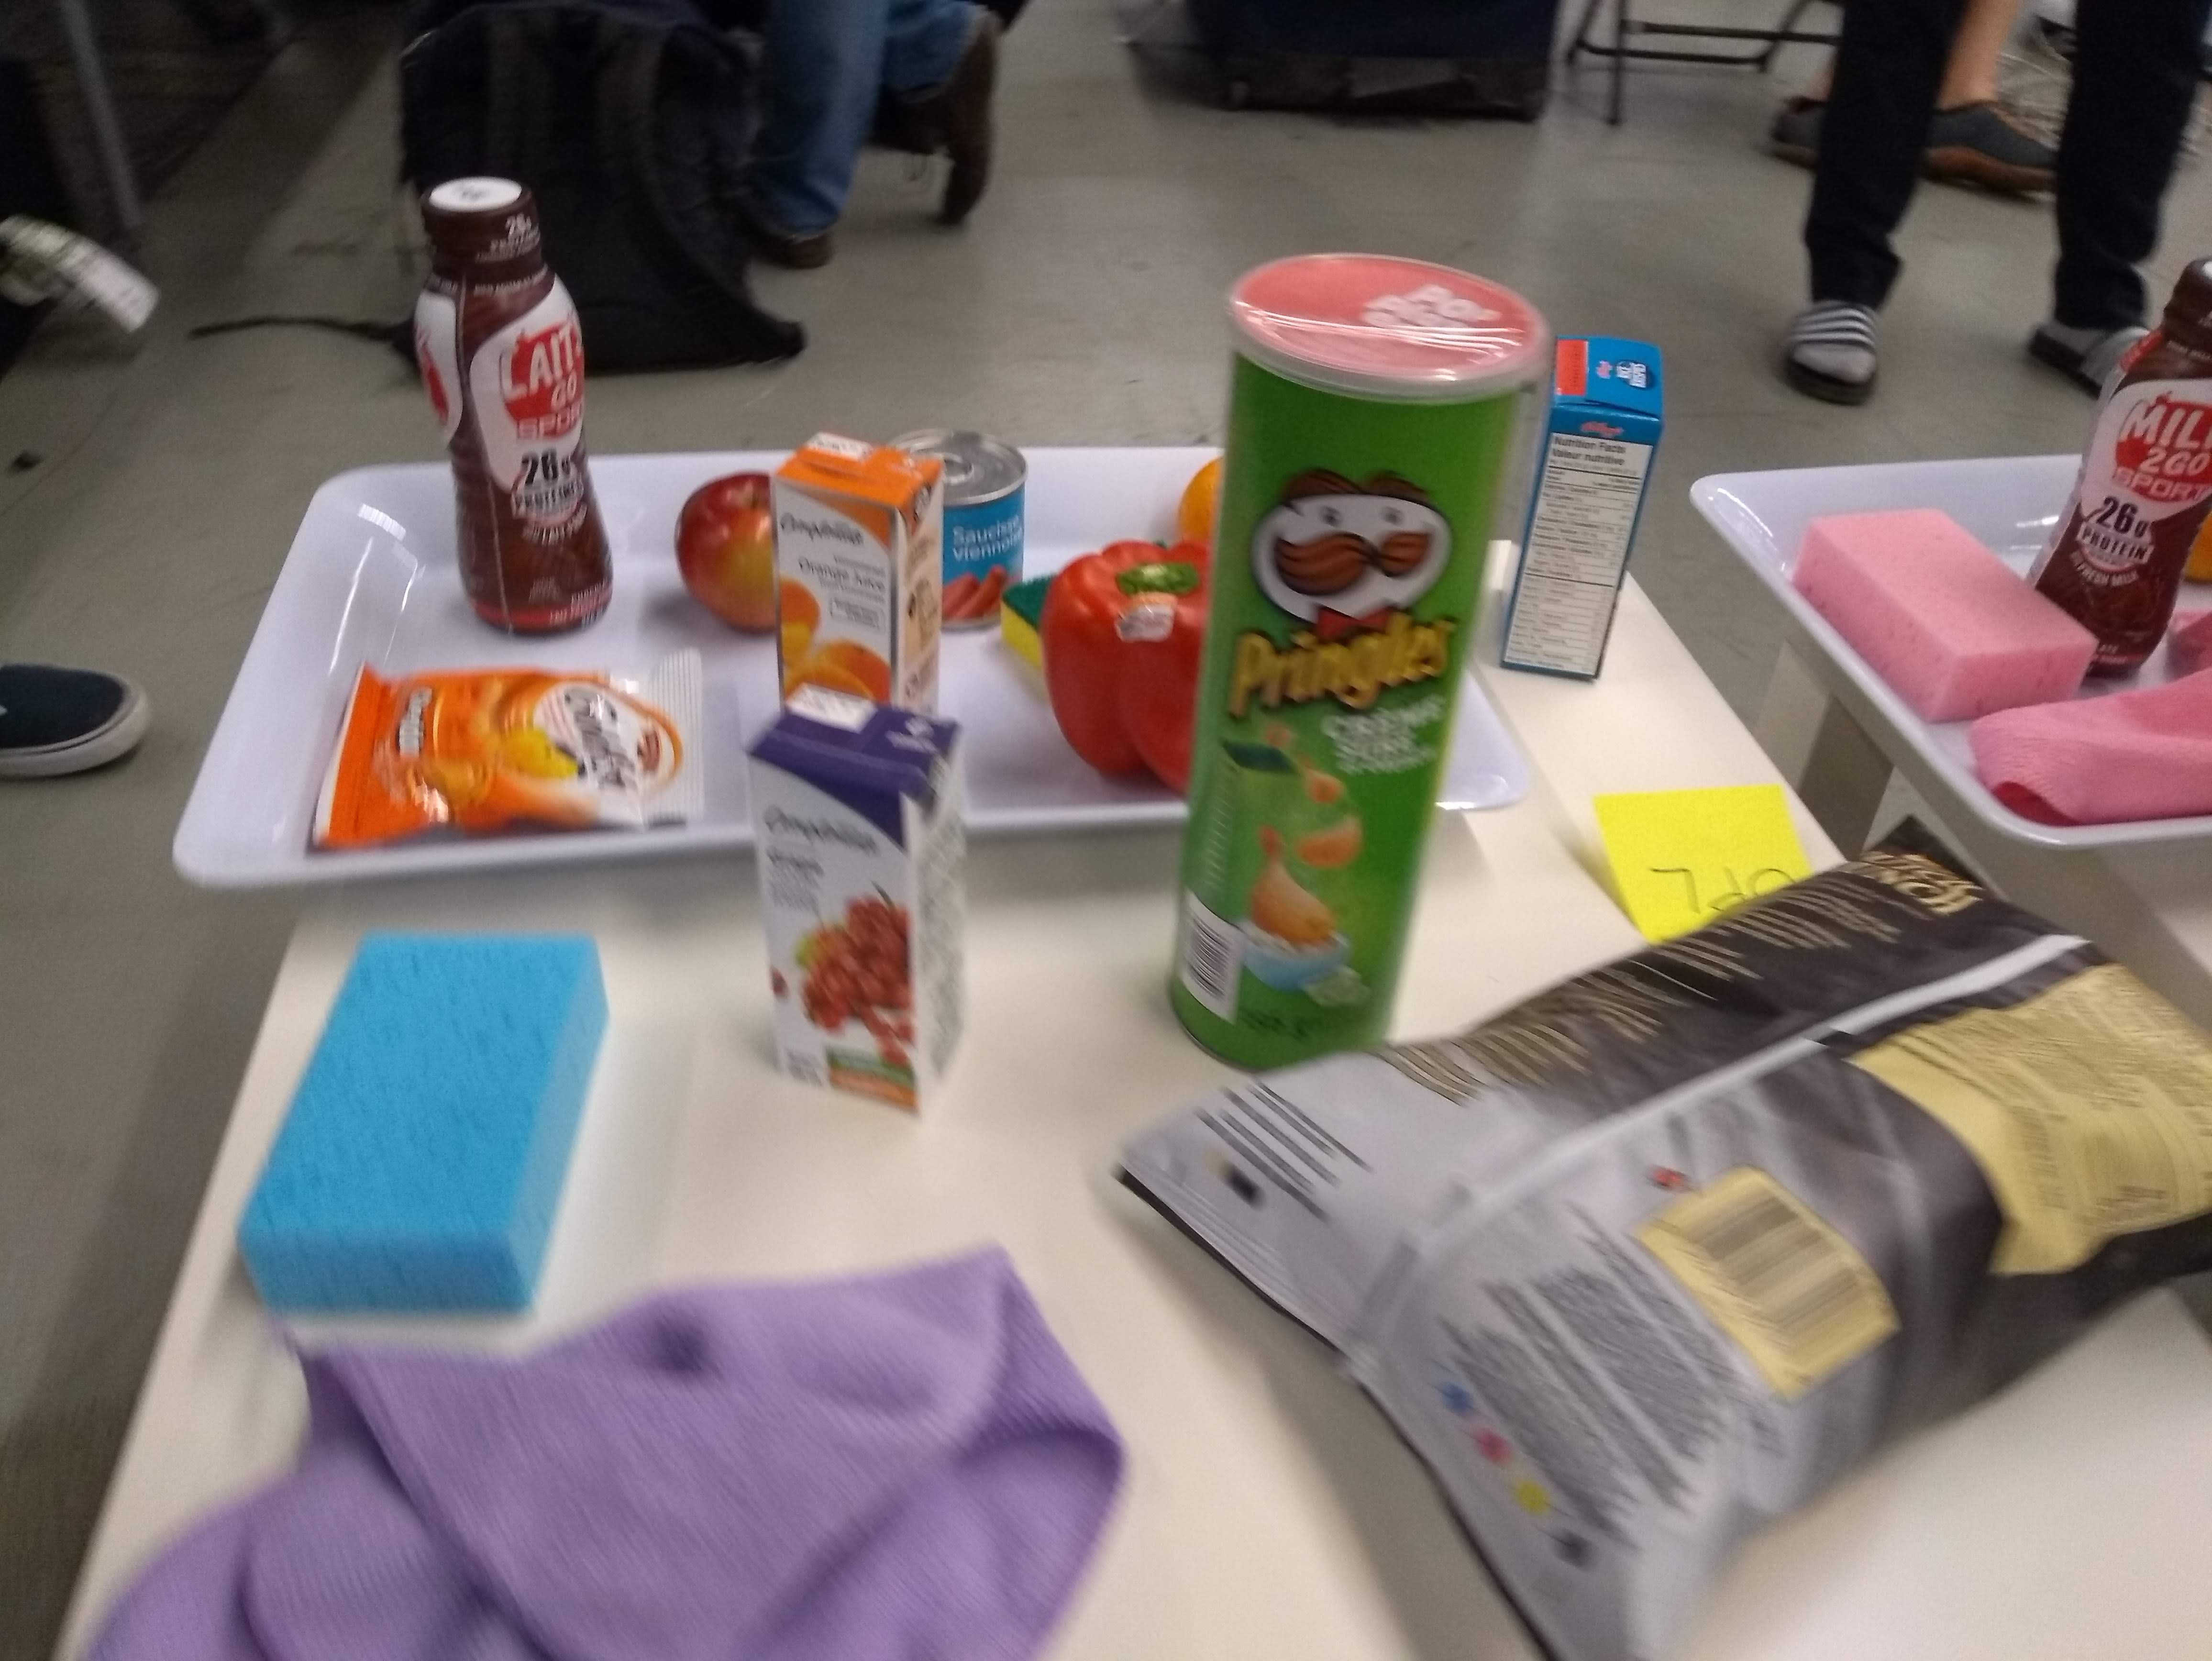apple: (666, 468, 783, 633)
cereal: (1497, 328, 1676, 689)
chocolate_drink: (399, 159, 619, 640), (2036, 241, 2212, 675)
cloth_opl: (65, 1254, 1137, 1661)
crackers: (319, 656, 701, 851)
orange_juice: (773, 434, 942, 722)
paprika: (1047, 550, 1207, 790)
potato_chips: (1176, 864, 2191, 1633)
pringles: (1164, 256, 1551, 1073)
sausages: (902, 422, 1029, 630)
sponge_opl: (227, 932, 619, 1326)
